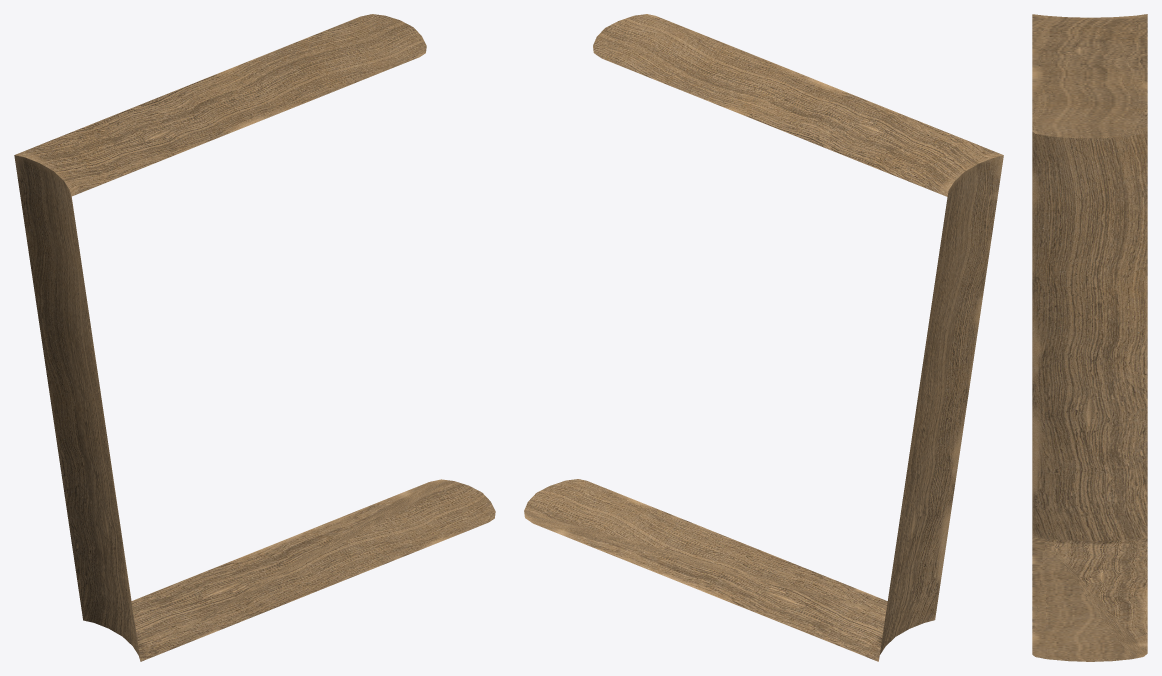
File: Paper001.obj
3 views of the same model, side by side, from view 1: azimuth 30°, elevation 25°; view 2: azimuth 150°, elevation 25°; view 3: azimuth 270°, elevation 25° (orthographic).
Bounding box in the file's own units: 0.0144 × 0.0169 × 0.00322.
1 material, 1 textured.
